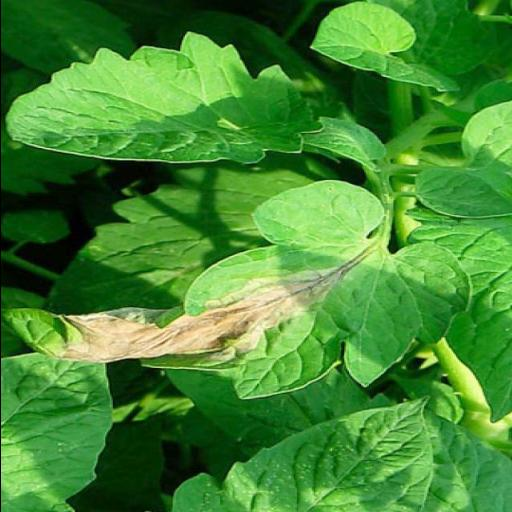Healthy: (6, 29, 324, 170)
Late Blight: (0, 179, 472, 400)
